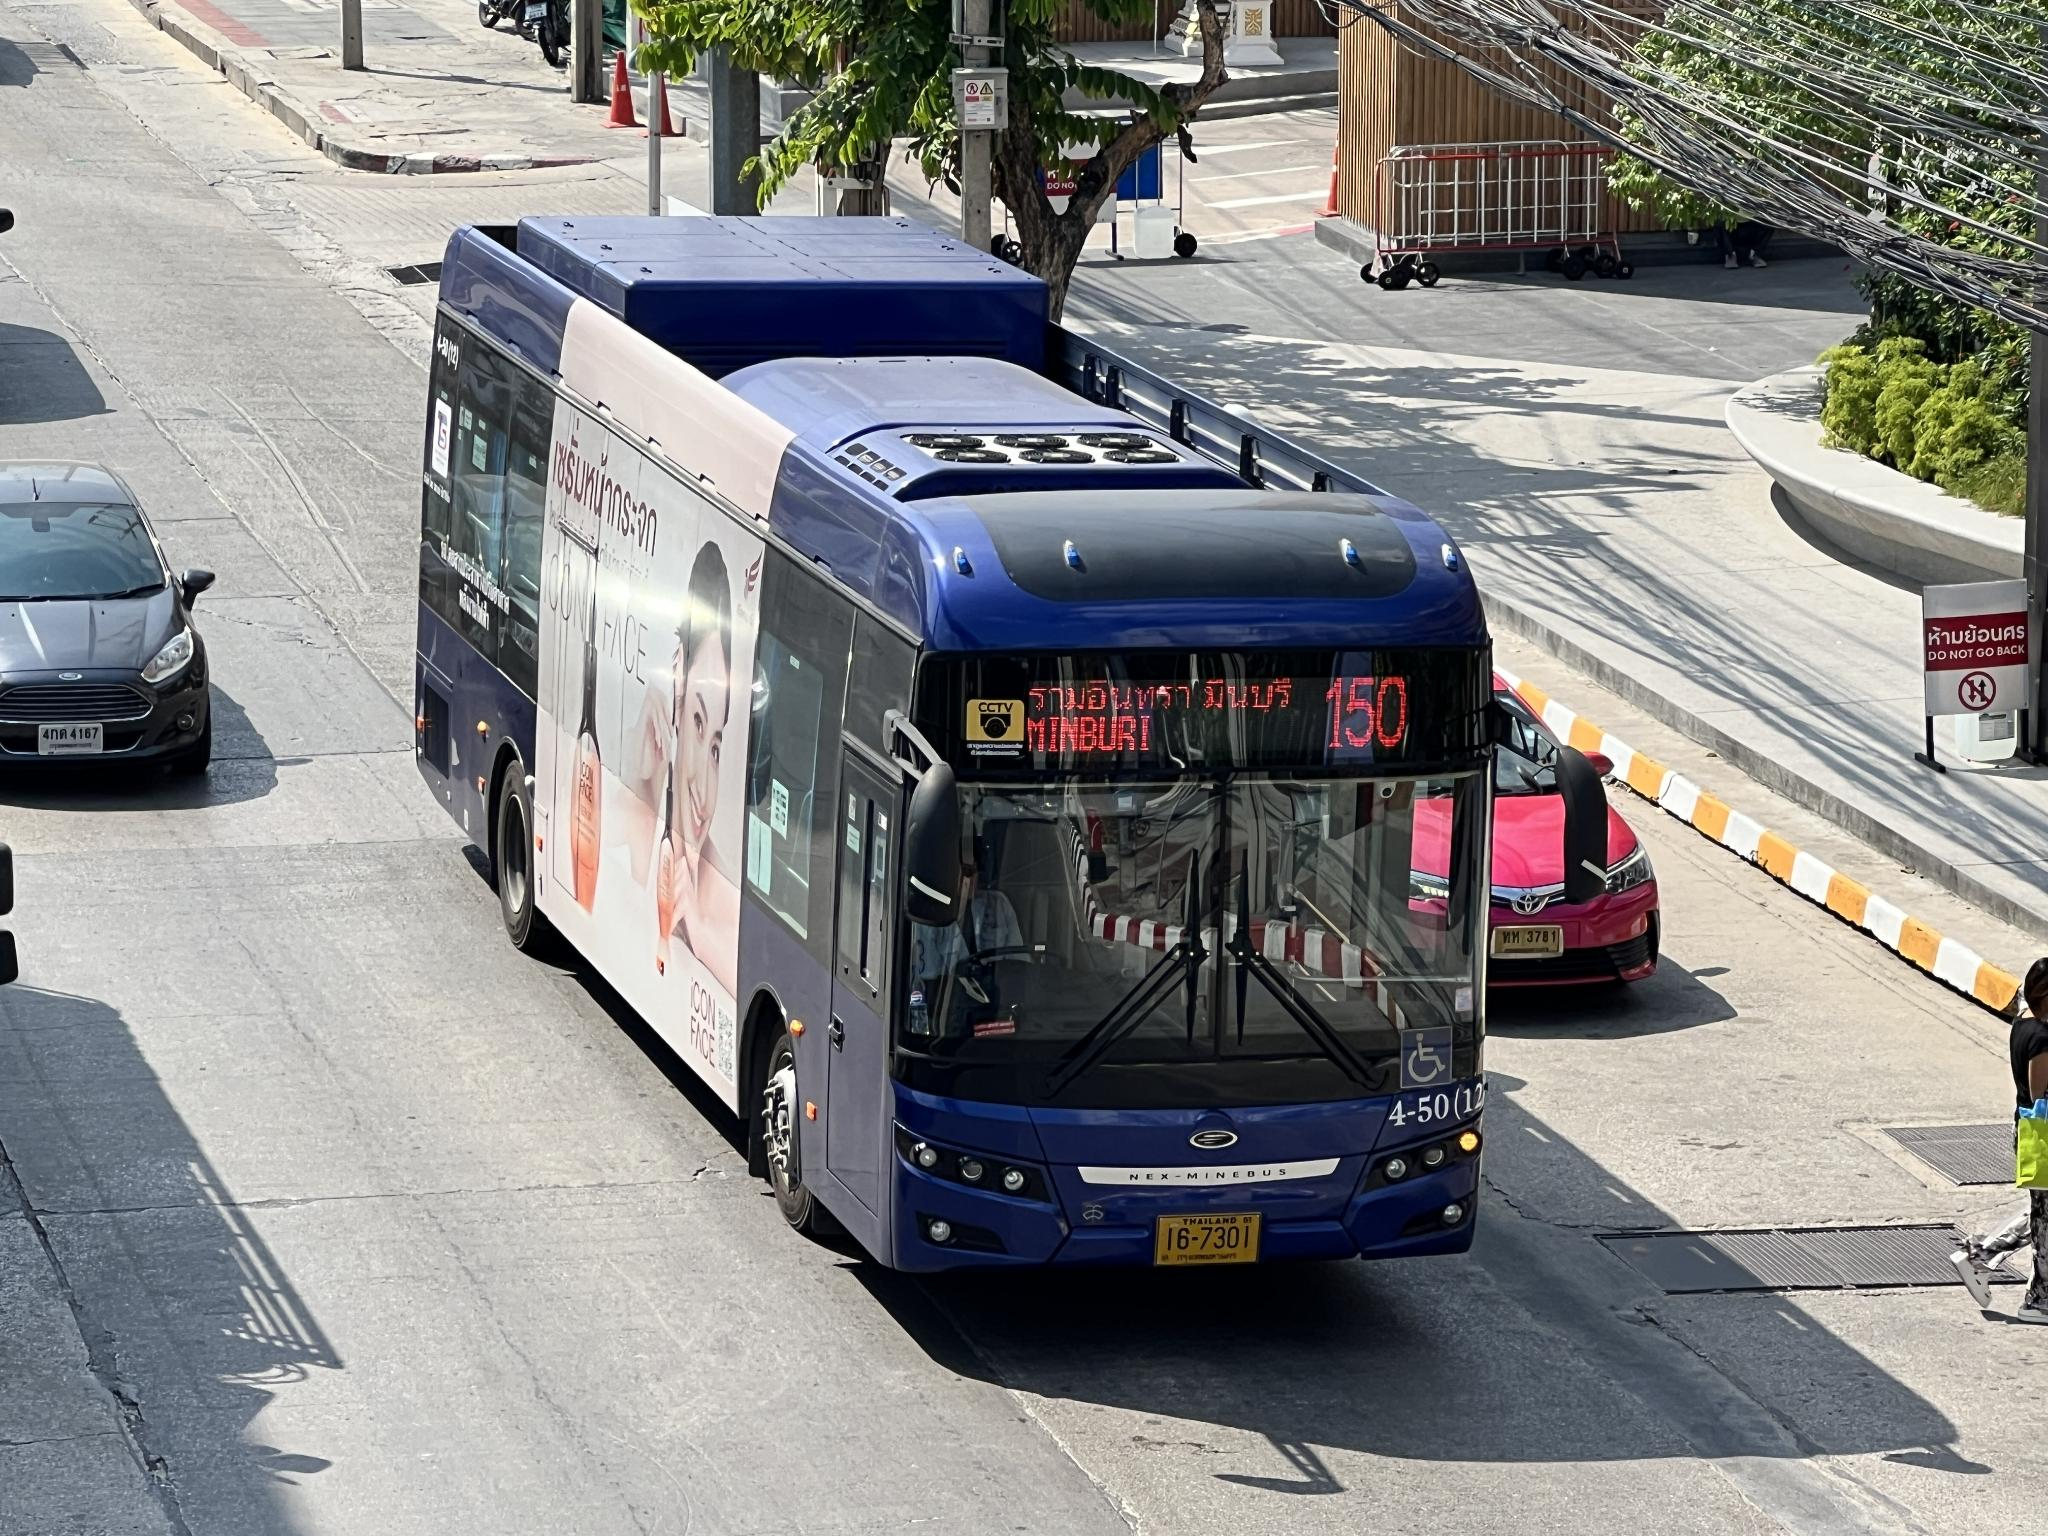Bus Line Number: (1311, 665, 1424, 753)
Bus Side Number: (1385, 1081, 1487, 1131)
Destination Sign: (1006, 666, 1311, 766)
TSB-Bus: (405, 216, 1492, 1286)
